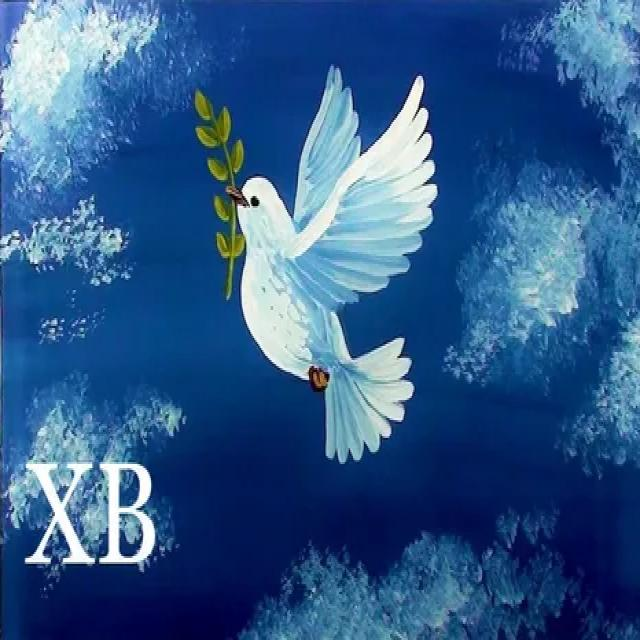pigeon: (230, 58, 443, 463)
